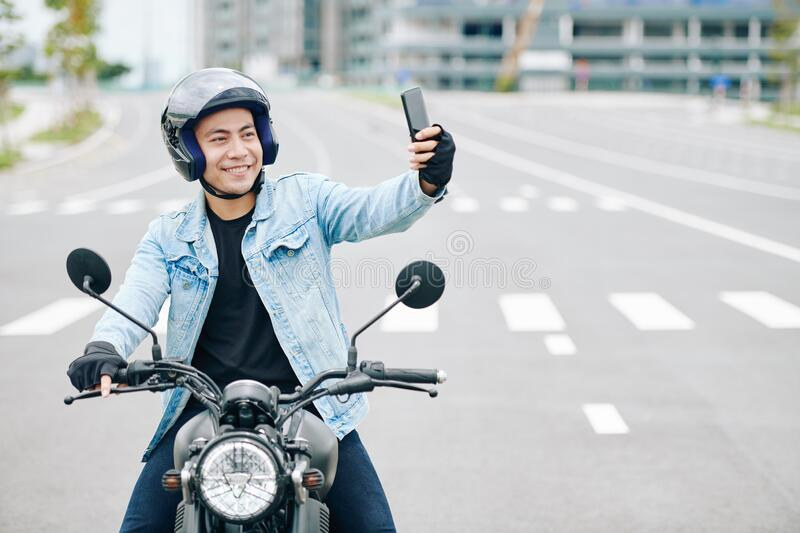dieu khien xe may: (141, 66, 341, 532)
su dung dien thoai: (159, 68, 454, 237)
